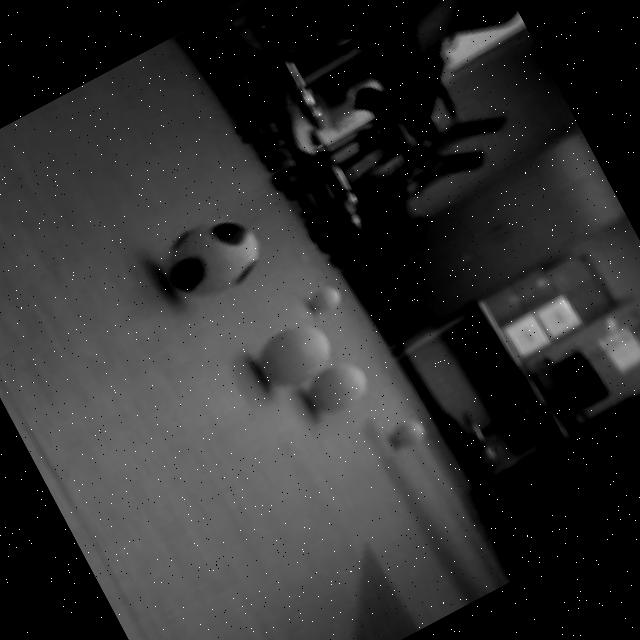ping-pong-ball: (142, 200, 276, 321), (246, 311, 342, 398), (294, 351, 378, 426), (376, 404, 439, 460), (300, 274, 357, 326)
